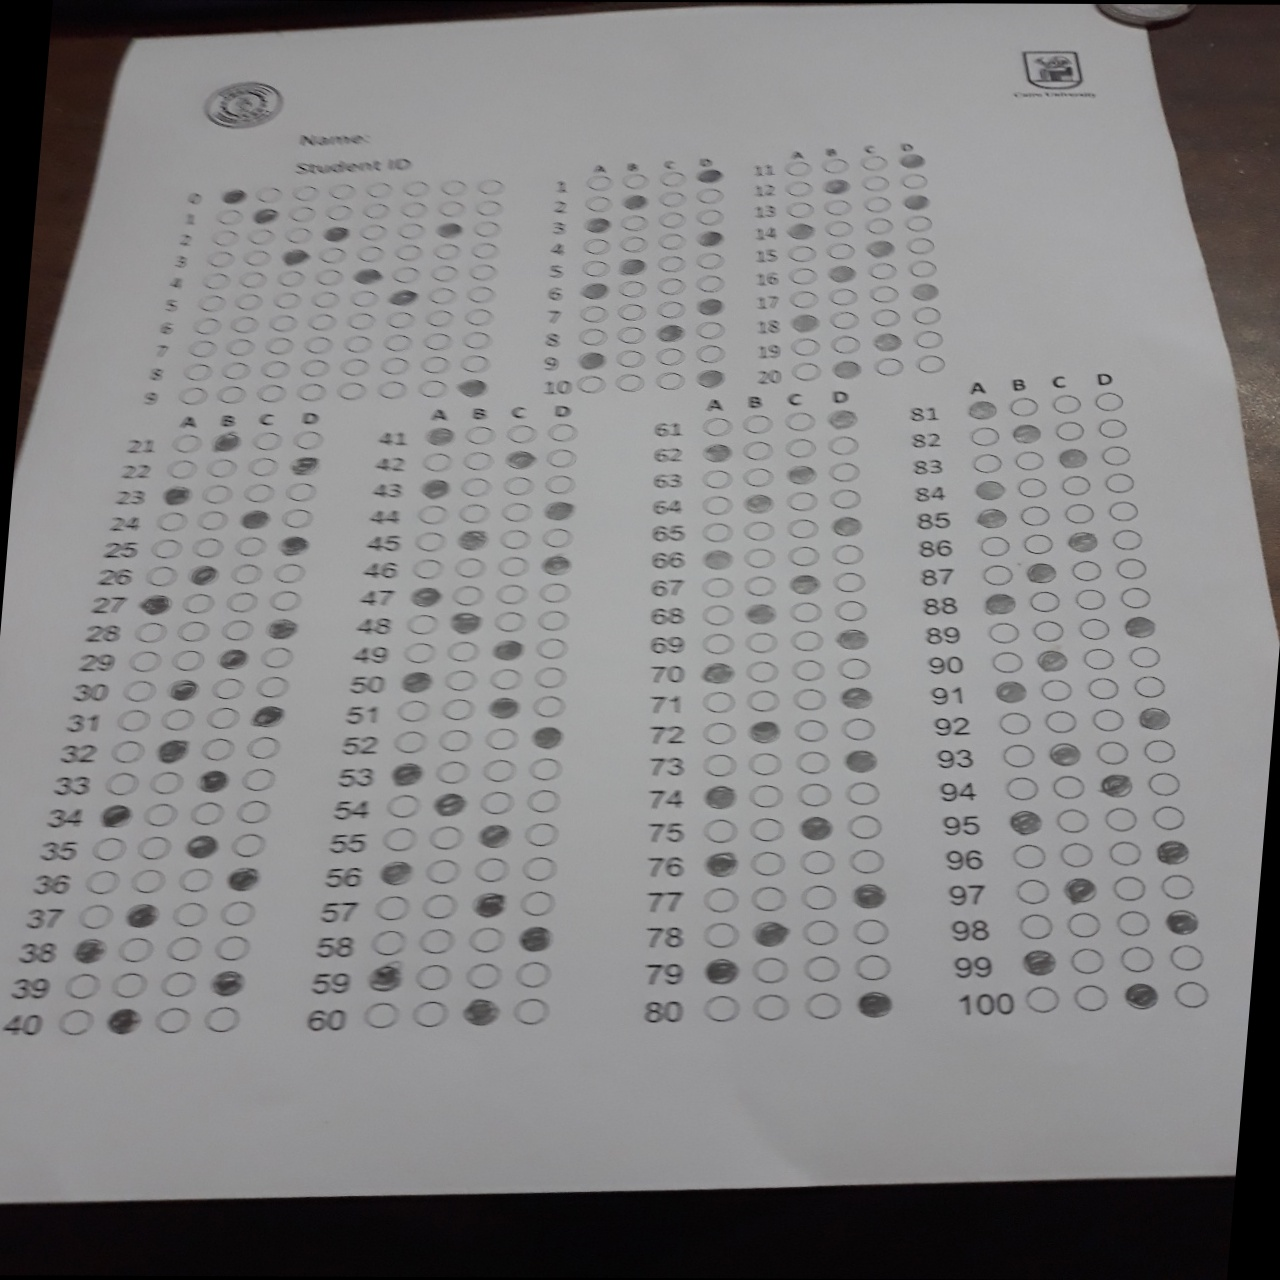not-c: (513, 959, 553, 988), (700, 886, 741, 914), (702, 994, 743, 1022), (409, 999, 450, 1027), (478, 756, 519, 784), (425, 825, 468, 852), (522, 787, 564, 813), (471, 856, 511, 884), (701, 920, 742, 947), (749, 956, 790, 983), (853, 954, 894, 981), (748, 993, 789, 1020), (459, 962, 501, 989), (467, 925, 508, 952), (418, 893, 459, 920), (517, 891, 558, 918), (423, 858, 464, 885), (381, 824, 422, 851), (477, 789, 518, 816), (802, 956, 842, 983), (801, 919, 840, 946), (850, 918, 890, 945), (803, 990, 843, 1017), (510, 998, 550, 1024), (360, 1001, 400, 1028), (413, 964, 452, 990), (415, 927, 455, 954), (368, 930, 408, 956), (372, 894, 411, 921), (519, 855, 559, 881), (522, 821, 561, 847), (383, 791, 423, 818), (433, 760, 472, 787), (525, 755, 565, 782), (1109, 874, 1146, 901), (1073, 983, 1110, 1010), (441, 668, 481, 693), (1115, 910, 1151, 937), (1169, 942, 1205, 969), (533, 663, 570, 690), (847, 847, 885, 873), (482, 726, 519, 751), (395, 697, 433, 723), (488, 665, 525, 690), (490, 608, 527, 634), (392, 729, 430, 754), (529, 694, 567, 719), (400, 639, 438, 663), (847, 813, 884, 839), (801, 849, 837, 874), (154, 1007, 190, 1033), (204, 1006, 240, 1032), (1070, 947, 1107, 973), (1119, 945, 1156, 971), (437, 727, 474, 753), (532, 635, 568, 661), (404, 610, 441, 635), (844, 781, 881, 805), (748, 851, 785, 876), (799, 885, 837, 910), (440, 696, 477, 721), (535, 608, 572, 633), (449, 581, 486, 606), (166, 935, 202, 961), (118, 937, 154, 962), (66, 972, 101, 998), (159, 971, 195, 996), (1160, 873, 1196, 899), (1017, 913, 1053, 939), (795, 782, 831, 806), (750, 886, 787, 911), (1094, 740, 1130, 764), (1102, 806, 1138, 831), (1014, 878, 1050, 903), (445, 639, 482, 663), (701, 753, 738, 776), (749, 817, 787, 840), (215, 934, 248, 960), (113, 972, 147, 998), (86, 869, 121, 893), (80, 904, 115, 928), (57, 1008, 93, 1033), (1065, 912, 1101, 937), (1173, 981, 1208, 1006), (1024, 987, 1060, 1012), (451, 554, 486, 579), (840, 717, 877, 741), (142, 802, 178, 825), (129, 869, 165, 892), (219, 900, 256, 924), (1145, 771, 1182, 795), (1141, 738, 1177, 762), (1054, 809, 1090, 832), (539, 526, 576, 550), (747, 784, 784, 806), (701, 819, 738, 842), (111, 738, 147, 762), (148, 770, 183, 794), (137, 836, 172, 859), (90, 837, 125, 860), (1000, 743, 1035, 767), (1051, 775, 1087, 798), (1105, 840, 1141, 864), (1012, 845, 1047, 869), (493, 583, 529, 606), (410, 556, 445, 579), (411, 530, 447, 553), (745, 753, 782, 775), (794, 750, 830, 772), (230, 833, 266, 856), (178, 867, 215, 890), (1042, 709, 1078, 731), (1149, 806, 1185, 829), (538, 581, 574, 604), (495, 554, 531, 577), (256, 674, 290, 697), (173, 901, 207, 925), (1058, 843, 1092, 866), (831, 571, 866, 593), (700, 577, 735, 599), (701, 632, 736, 654), (744, 631, 779, 653), (702, 721, 737, 743), (792, 719, 828, 741), (128, 651, 163, 673), (205, 707, 240, 729), (236, 799, 271, 822), (996, 712, 1032, 734), (1005, 777, 1040, 799), (497, 527, 532, 550), (150, 537, 186, 558), (144, 564, 181, 585), (224, 591, 260, 612), (181, 593, 217, 614), (134, 621, 170, 642), (219, 618, 256, 639), (787, 545, 821, 567), (791, 659, 825, 681), (229, 561, 263, 584), (260, 645, 294, 667), (123, 680, 157, 702), (159, 708, 193, 730), (105, 771, 139, 794), (200, 737, 234, 760), (245, 735, 279, 757), (241, 768, 275, 790), (189, 802, 223, 824), (990, 651, 1024, 673), (414, 503, 448, 525), (544, 447, 578, 469), (699, 493, 734, 515), (741, 520, 776, 542), (742, 547, 777, 568), (830, 543, 865, 564), (742, 574, 777, 595), (700, 602, 735, 624), (837, 658, 872, 679), (791, 689, 826, 710), (234, 535, 270, 556), (191, 536, 226, 557), (272, 561, 307, 583), (267, 590, 302, 611), (176, 620, 211, 641), (210, 678, 245, 699), (116, 710, 151, 731), (456, 502, 489, 524), (459, 476, 492, 498), (461, 449, 493, 471), (545, 420, 578, 442), (700, 522, 734, 543), (787, 518, 821, 539), (835, 599, 869, 620), (789, 601, 823, 622), (789, 629, 823, 651), (744, 660, 778, 681), (745, 689, 779, 710), (171, 649, 205, 670), (1114, 557, 1148, 578), (981, 564, 1015, 585), (1073, 588, 1107, 610), (1121, 586, 1155, 607), (1077, 618, 1111, 639), (1032, 620, 1065, 641), (986, 622, 1020, 644), (1126, 646, 1160, 667), (1039, 680, 1073, 701), (1131, 676, 1165, 697), (542, 472, 576, 493), (701, 692, 736, 712), (415, 379, 450, 399), (215, 384, 250, 404), (176, 386, 211, 406), (270, 290, 305, 309), (196, 510, 231, 530), (1085, 678, 1121, 697), (1028, 590, 1061, 611), (1082, 648, 1115, 669), (1091, 709, 1124, 730), (501, 501, 533, 522), (501, 474, 533, 495), (421, 452, 454, 474), (503, 422, 536, 443), (464, 423, 497, 444), (186, 338, 220, 358), (421, 331, 455, 350), (467, 261, 501, 281), (280, 508, 314, 527), (826, 435, 858, 456), (655, 252, 687, 273), (458, 353, 493, 372), (375, 380, 410, 399), (379, 356, 414, 375), (223, 338, 258, 356), (461, 306, 496, 325), (266, 312, 301, 331), (227, 314, 263, 333), (190, 315, 225, 334), (308, 290, 343, 308), (164, 459, 199, 478), (204, 458, 239, 477), (285, 482, 320, 501), (241, 483, 277, 502), (829, 488, 862, 508), (338, 381, 370, 401), (302, 334, 335, 354), (1092, 392, 1125, 411), (1012, 450, 1044, 470), (971, 452, 1003, 472), (979, 536, 1012, 556), (1055, 418, 1085, 440), (617, 234, 651, 253), (418, 354, 452, 373), (295, 381, 329, 400), (298, 358, 332, 376), (258, 359, 292, 377), (256, 383, 290, 402), (181, 363, 215, 382), (219, 360, 253, 379), (263, 335, 297, 354), (341, 335, 375, 354), (381, 333, 415, 352), (459, 331, 493, 349), (423, 308, 457, 327), (345, 311, 379, 329), (195, 293, 229, 312), (232, 291, 266, 309), (425, 285, 459, 304), (464, 284, 498, 302), (170, 434, 204, 452), (245, 456, 279, 475), (251, 431, 285, 450), (202, 485, 236, 504), (911, 305, 942, 325), (912, 329, 944, 349), (789, 336, 821, 356), (873, 356, 905, 376), (914, 353, 946, 373), (783, 411, 815, 431), (741, 414, 772, 434), (701, 417, 733, 437), (742, 441, 774, 461), (783, 437, 815, 457), (656, 275, 688, 295), (614, 372, 646, 392), (475, 176, 506, 196), (969, 425, 1001, 445), (1051, 394, 1083, 414), (1016, 478, 1048, 498), (1103, 474, 1135, 493), (1107, 501, 1138, 520), (1071, 560, 1103, 580), (828, 462, 860, 481), (577, 305, 610, 324), (577, 327, 610, 346), (339, 358, 372, 376), (384, 309, 417, 328), (305, 312, 338, 331), (349, 288, 382, 307), (291, 182, 324, 200), (215, 207, 247, 226), (293, 429, 326, 448), (157, 511, 190, 530), (1060, 475, 1092, 493), (857, 152, 887, 172), (790, 362, 821, 382), (742, 467, 772, 486), (787, 490, 817, 510), (402, 177, 433, 197), (1099, 445, 1130, 465), (1111, 529, 1142, 549), (694, 320, 728, 338), (828, 335, 859, 354), (619, 170, 651, 189), (655, 210, 687, 229), (581, 236, 613, 254), (615, 278, 647, 297), (615, 302, 647, 321), (615, 325, 647, 343), (326, 182, 358, 200), (253, 184, 285, 203), (653, 370, 685, 389), (1096, 418, 1128, 437), (1020, 506, 1051, 525), (1021, 535, 1053, 553), (653, 347, 686, 365), (583, 172, 615, 190), (701, 469, 731, 488), (655, 189, 686, 207), (615, 348, 646, 367), (365, 179, 395, 198), (1009, 397, 1040, 416), (1063, 504, 1094, 523), (787, 267, 818, 285), (788, 291, 819, 308), (583, 193, 614, 211), (617, 213, 648, 231), (654, 231, 686, 248), (579, 258, 611, 275), (576, 374, 607, 392), (211, 229, 243, 246), (440, 177, 469, 196), (325, 203, 354, 222), (355, 244, 384, 263), (693, 252, 726, 268), (869, 285, 899, 302), (828, 312, 858, 329), (656, 170, 687, 188), (199, 272, 230, 290), (237, 270, 267, 287), (313, 267, 343, 285), (358, 223, 388, 240), (394, 244, 424, 261), (871, 308, 903, 325), (694, 207, 726, 224), (695, 345, 727, 361), (692, 188, 726, 203), (692, 275, 726, 291), (900, 172, 930, 190), (207, 250, 237, 267), (243, 248, 272, 266), (275, 270, 305, 287), (361, 202, 390, 219), (399, 200, 428, 218), (430, 264, 459, 281), (434, 241, 463, 259), (437, 200, 467, 218), (471, 241, 501, 259), (866, 263, 897, 279), (907, 259, 938, 275), (829, 288, 859, 305), (656, 300, 687, 316), (316, 247, 347, 264), (860, 173, 890, 190), (784, 161, 813, 177), (785, 200, 815, 217), (863, 195, 892, 211), (903, 215, 932, 231), (906, 237, 935, 253), (787, 246, 816, 263), (282, 226, 312, 243), (397, 222, 427, 238), (392, 266, 421, 282), (474, 200, 503, 217), (472, 220, 502, 237), (821, 157, 849, 173), (865, 217, 893, 233), (826, 241, 855, 258), (247, 229, 275, 245), (288, 205, 316, 222), (823, 199, 852, 215), (825, 220, 855, 236), (785, 181, 813, 196)
taken-c: (375, 859, 415, 886), (1163, 908, 1201, 935), (516, 924, 554, 951), (366, 964, 404, 990), (461, 998, 499, 1024), (1033, 647, 1073, 673), (702, 956, 740, 983), (1060, 876, 1097, 903), (1047, 740, 1084, 767), (982, 590, 1020, 617), (856, 990, 894, 1016), (1155, 838, 1193, 864), (1121, 613, 1159, 639), (72, 937, 108, 964), (751, 920, 789, 946), (1021, 949, 1058, 975), (1123, 982, 1160, 1008), (1008, 809, 1046, 835), (1136, 704, 1173, 730), (994, 678, 1032, 703), (1098, 771, 1135, 797), (207, 969, 244, 995), (798, 815, 833, 840), (703, 851, 738, 877), (851, 881, 886, 907), (124, 903, 159, 928), (154, 738, 190, 763), (195, 768, 231, 792), (471, 892, 508, 917), (699, 661, 736, 685), (183, 833, 220, 857), (224, 867, 261, 891), (105, 1008, 139, 1034), (1010, 420, 1046, 444), (98, 803, 134, 828), (838, 686, 874, 709), (842, 749, 878, 772), (1055, 445, 1091, 469), (248, 704, 285, 728), (477, 824, 513, 847), (1024, 561, 1060, 585), (1065, 530, 1101, 553), (973, 477, 1008, 501), (965, 396, 1000, 420), (431, 792, 467, 816), (747, 720, 783, 742), (972, 508, 1008, 530), (186, 561, 220, 585), (264, 617, 298, 640), (399, 670, 434, 693), (530, 726, 565, 748), (702, 787, 738, 808), (139, 592, 173, 614), (215, 646, 248, 668), (166, 679, 200, 701), (491, 638, 525, 660), (486, 696, 520, 719), (392, 763, 425, 785), (702, 549, 736, 570), (789, 574, 823, 595), (743, 602, 777, 624), (835, 628, 869, 649), (576, 350, 610, 372), (579, 280, 613, 301), (695, 295, 729, 316), (275, 535, 309, 556), (422, 425, 456, 447), (540, 554, 574, 576), (702, 442, 735, 463), (830, 515, 863, 536), (655, 322, 688, 343), (418, 479, 451, 501), (504, 449, 537, 470), (448, 611, 481, 632), (455, 530, 489, 550), (542, 501, 576, 520), (410, 585, 442, 606), (694, 368, 727, 388), (209, 433, 241, 452), (240, 508, 272, 527), (455, 377, 488, 396), (873, 331, 904, 350), (159, 486, 193, 504), (787, 464, 818, 483), (743, 493, 775, 512), (908, 282, 941, 300), (828, 410, 858, 429), (822, 177, 853, 195), (864, 239, 896, 257), (785, 222, 817, 239), (826, 265, 858, 282), (617, 258, 648, 275), (290, 456, 321, 474), (790, 313, 819, 332), (832, 359, 862, 377), (896, 152, 928, 169), (583, 216, 613, 233), (695, 166, 726, 184), (435, 220, 467, 237), (250, 207, 281, 224), (350, 267, 382, 284), (696, 230, 726, 247), (280, 248, 309, 266), (619, 192, 649, 209), (320, 225, 350, 241), (219, 188, 250, 204), (388, 287, 418, 304), (900, 195, 931, 210)
